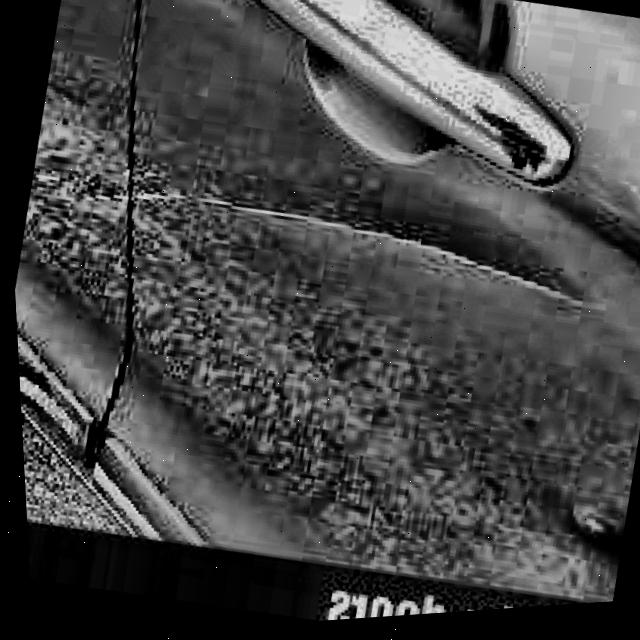door_scratch: (26, 126, 591, 322)
